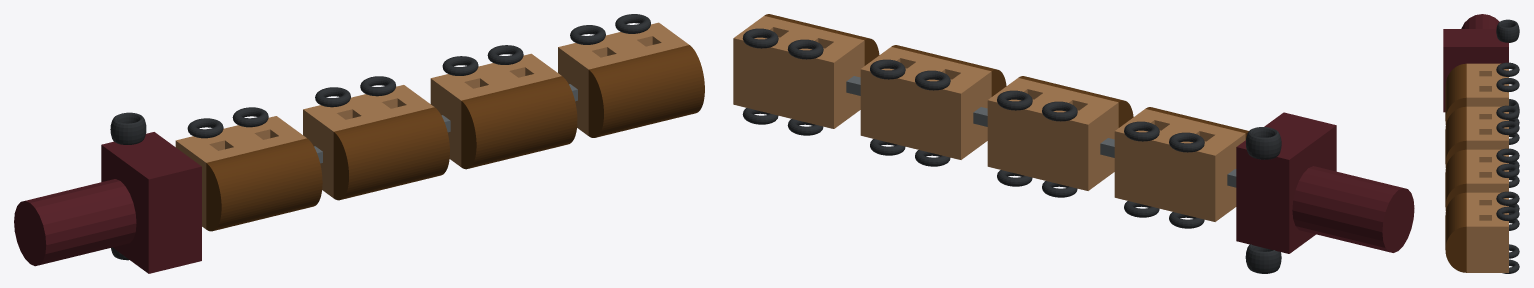
Rendered from tinker.obj.
3 views of the same model, side by side, from view 1: azimuth 30°, elevation 25°; view 2: azimuth 150°, elevation 25°; view 3: azimuth 270°, elevation 25° (orthographic). The views are drawn at different scales.
Visible parts, largest first — view 1: group_0_6306067, group_0_5249569, group_0_11107152, group_0_2829873; view 2: group_0_11107152, group_0_5249569, group_0_2829873, group_0_6306067, group_0_6383466; view 3: group_0_11107152, group_0_6306067, group_0_2829873, group_0_5249569.
Boxes of the visible parts, x1,y1,x2,y2 form: group_0_6306067: [206, 45, 704, 231]; group_0_5249569: [14, 132, 201, 273]; group_0_11107152: [175, 22, 688, 229]; group_0_2829873: [110, 14, 650, 260]; group_0_11107152: [733, 16, 1245, 221]; group_0_5249569: [1236, 112, 1414, 253]; group_0_2829873: [742, 28, 1281, 273]; group_0_6306067: [764, 14, 1248, 139]; group_0_6383466: [846, 76, 1236, 187]; group_0_11107152: [1466, 63, 1508, 272]; group_0_6306067: [1445, 63, 1466, 272]; group_0_2829873: [1496, 19, 1519, 273]; group_0_5249569: [1443, 14, 1508, 112].
Bounding box in the file's own units: 244 × 49.18 × 36.
